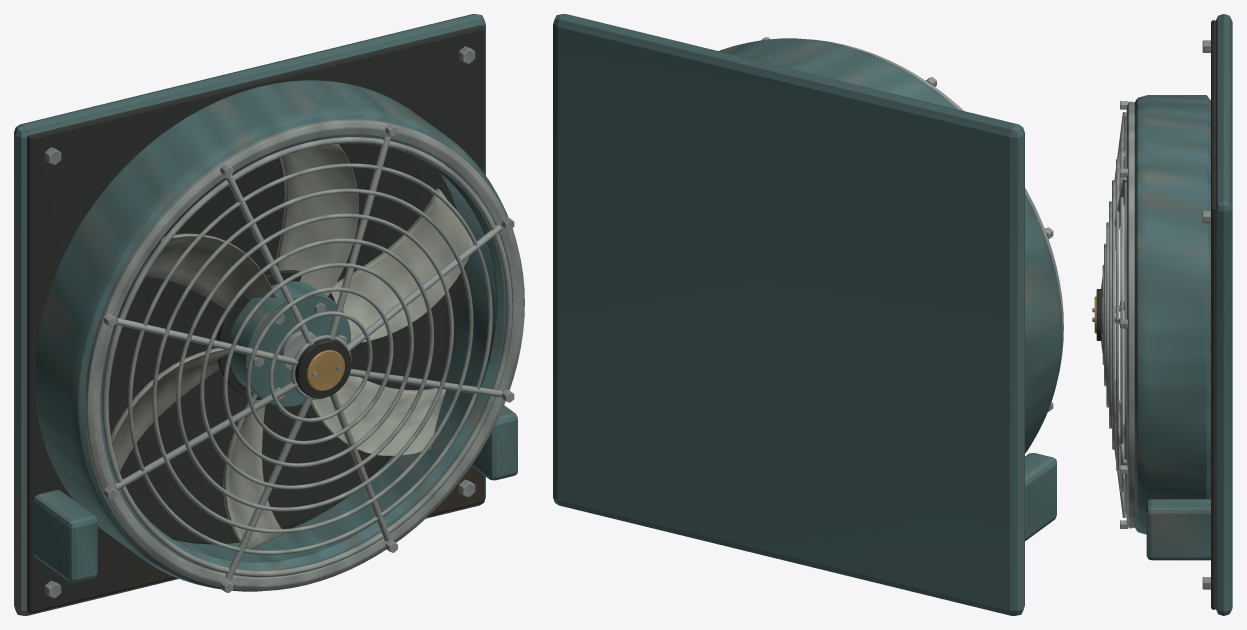
Rendered from boiler-arrival-extractor.glb.
3 views of the same model, side by side, from view 1: azimuth 30°, elevation 25°; view 2: azimuth 150°, elevation 25°; view 3: azimuth 270°, elevation 25° (orthographic). The views are drawn at different scales.
Visible parts, largest first — view 1: Wall extractor and fixed safety guard | Blackened frame inte, Wall extractor and fixed safety guard | Petrol enamel over o, Wall extractor and fixed safety guard | Galvanized guard and, Driven impeller | Painted pressed aluminium, Driven impeller | Petrol enamel over oxidized cast iron, Driven impeller | Blackened frame interior and gasket, Wall extractor and fixed safety guard | Oxidized manufacture, Driven impeller | Galvanized guard and mounting hardware; view 2: Wall extractor and fixed safety guard | Petrol enamel over o, Wall extractor and fixed safety guard | Galvanized guard and; view 3: Wall extractor and fixed safety guard | Petrol enamel over o, Wall extractor and fixed safety guard | Galvanized guard and, Wall extractor and fixed safety guard | Blackened frame inte.
Boxes of the visible parts, <box> form: Wall extractor and fixed safety guard | Blackened frame inte: <box>27,25,484,613</box>; Wall extractor and fixed safety guard | Petrol enamel over o: <box>14,14,517,615</box>; Wall extractor and fixed safety guard | Galvanized guard and: <box>44,46,524,598</box>; Driven impeller | Painted pressed aluminium: <box>111,144,472,549</box>; Driven impeller | Petrol enamel over oxidized cast iron: <box>229,281,350,406</box>; Driven impeller | Blackened frame interior and gasket: <box>216,270,335,399</box>; Wall extractor and fixed safety guard | Oxidized manufacture: <box>306,350,344,390</box>; Driven impeller | Galvanized guard and mounting hardware: <box>252,302,346,399</box>; Wall extractor and fixed safety guard | Petrol enamel over o: <box>553,14,1062,615</box>; Wall extractor and fixed safety guard | Galvanized guard and: <box>761,37,1063,411</box>; Wall extractor and fixed safety guard | Petrol enamel over o: <box>1134,14,1232,615</box>; Wall extractor and fixed safety guard | Galvanized guard and: <box>1092,40,1210,589</box>; Wall extractor and fixed safety guard | Blackened frame inte: <box>1096,20,1215,609</box>.
Size of the model in its own units: 1.49 by 1.49 by 0.456.
